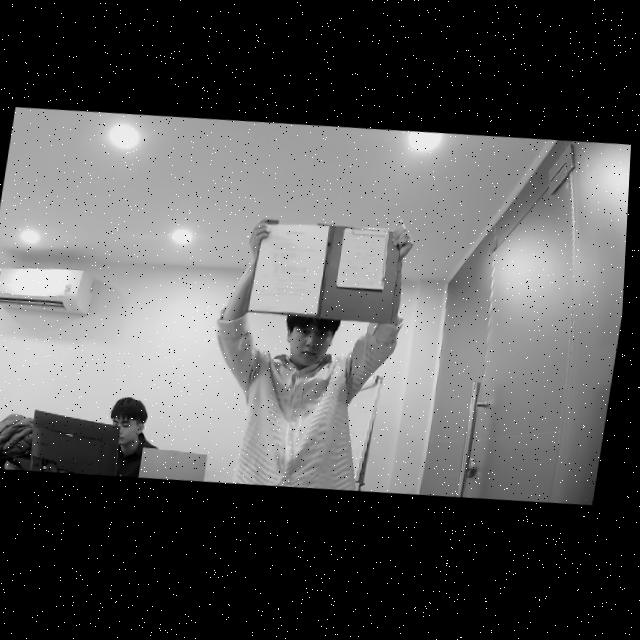document: (247, 224, 329, 314), (336, 228, 388, 289)
face: (284, 313, 343, 372), (107, 400, 156, 448)
